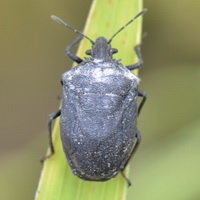insect: (43, 9, 145, 185)
